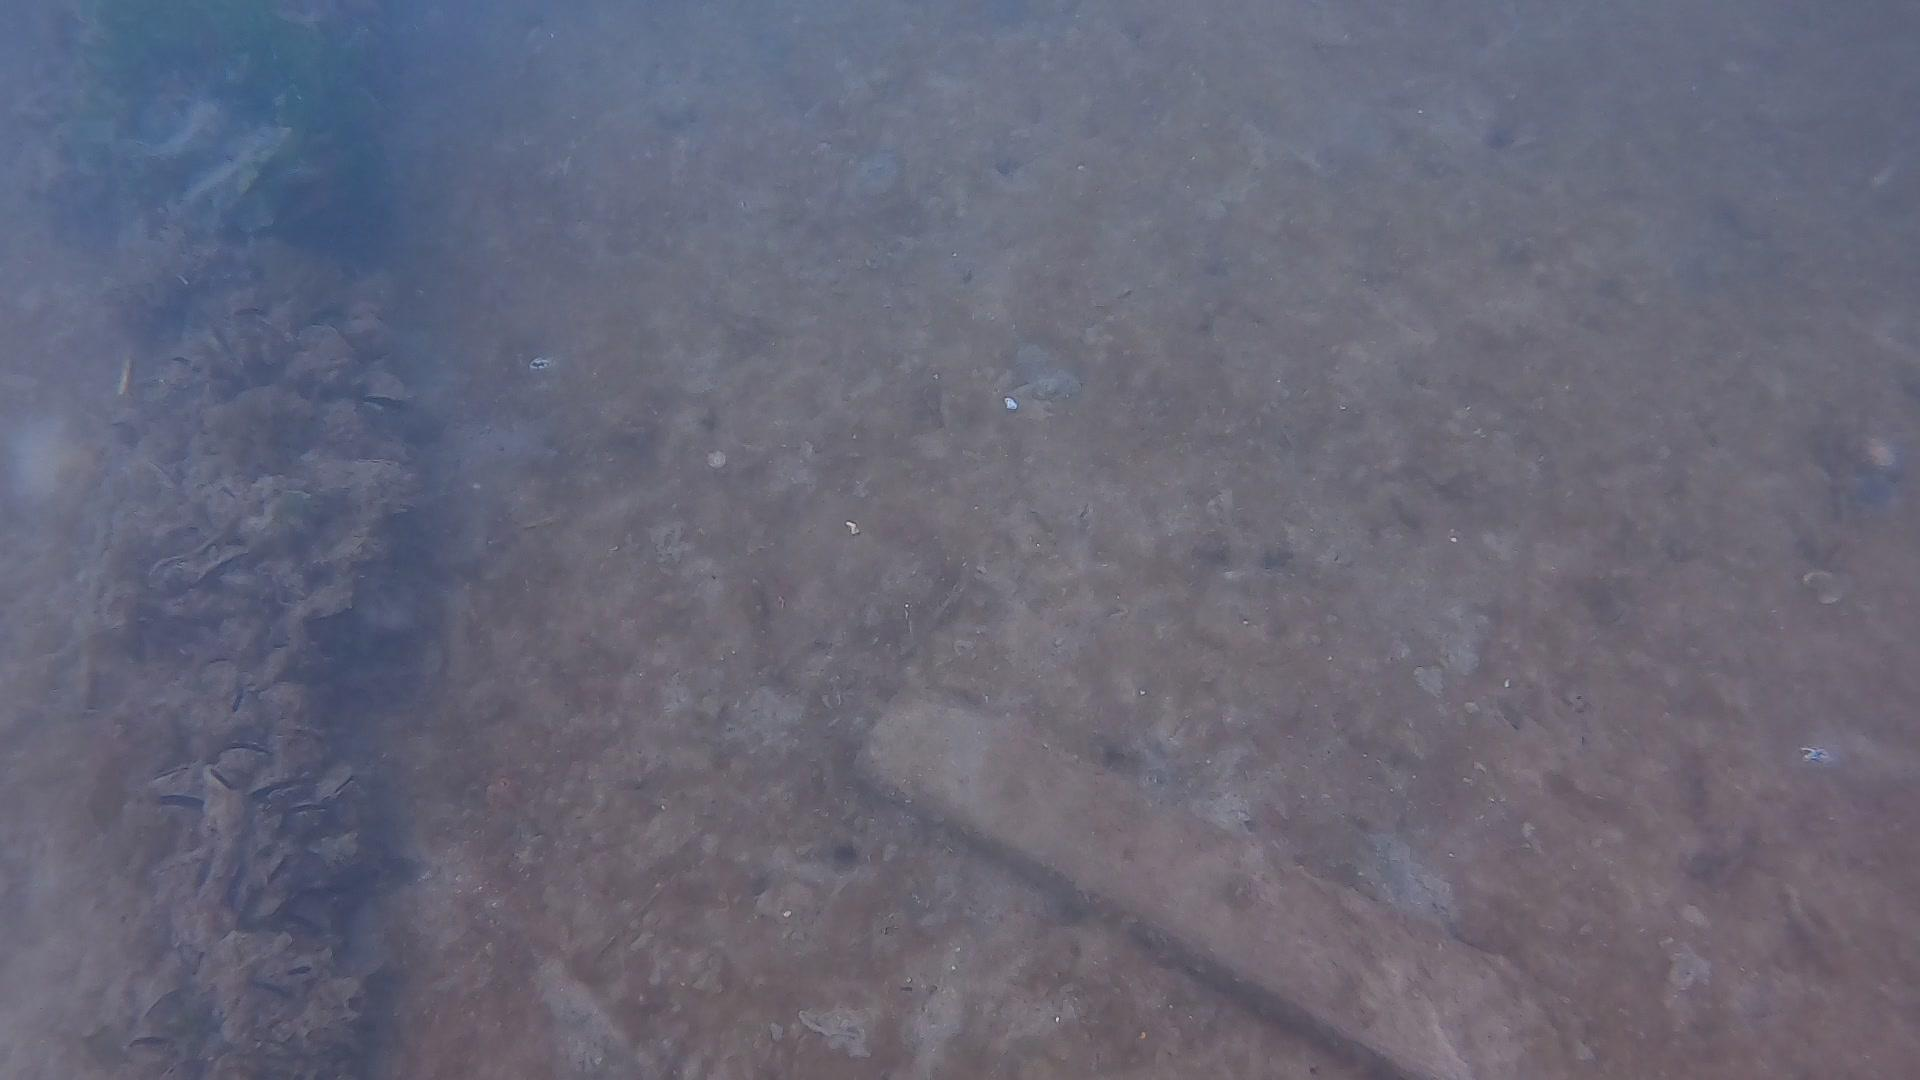wood: (847, 675, 1511, 1076)
